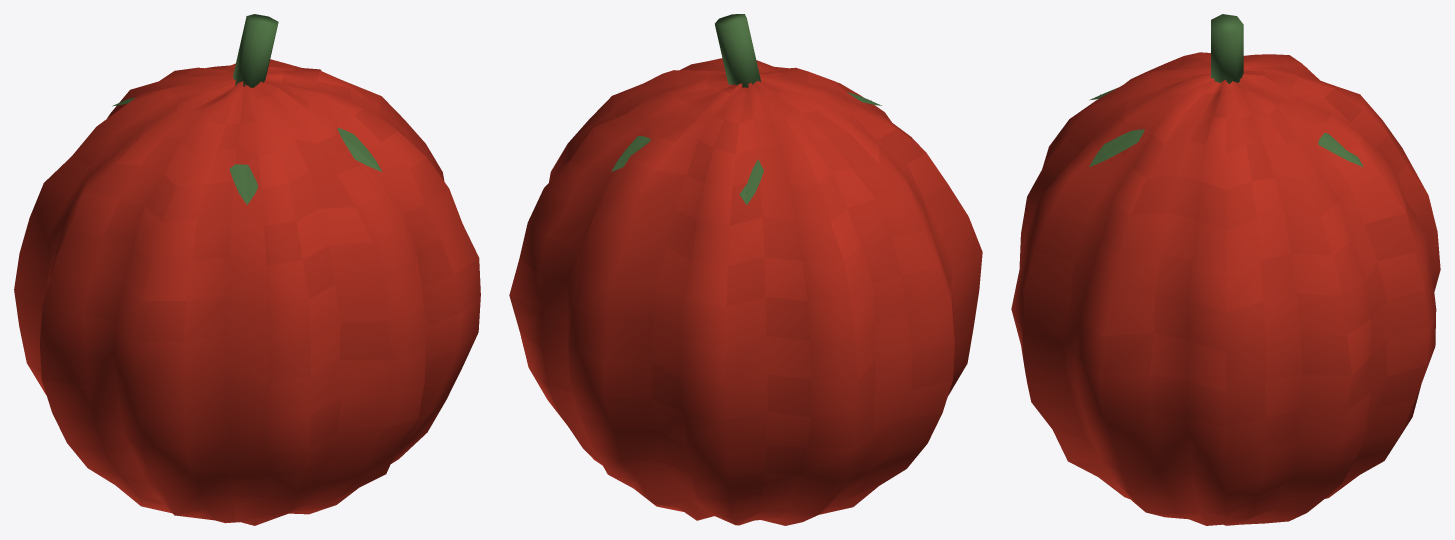
Rendered from Tomato.glb.
3 renders of one model, left to right at view 1: azimuth 30°, elevation 25°; view 2: azimuth 150°, elevation 25°; view 3: azimuth 270°, elevation 25°, orthographic.
Parts seen in each view (by area): view 1: Tomato; view 2: Tomato; view 3: Tomato.
Boxes of the visible parts, x1,y1,x2,y2 form: Tomato: (14,14,480,525); Tomato: (509,14,982,525); Tomato: (1011,14,1440,525).
Size of what is drawn, in the model's own units: 0.0794 by 0.0895 by 0.07.
